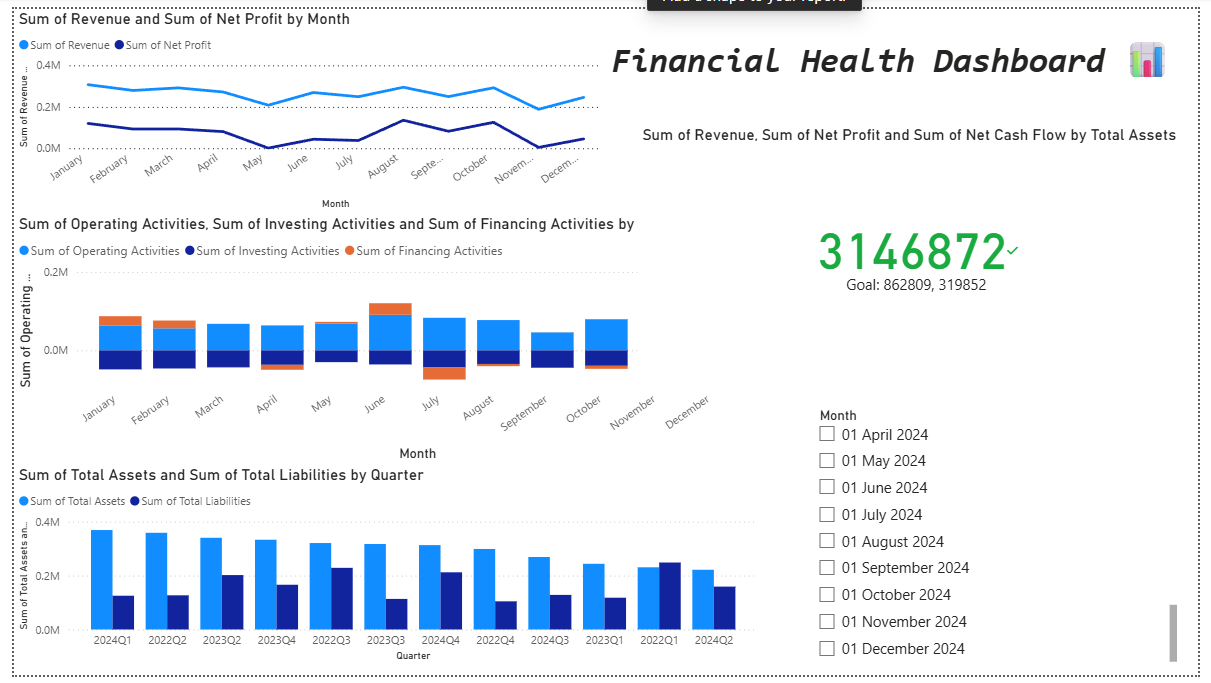

Layout of this report page (visuals, bound fields, positions):
{"tool":"powerbi","page":{"name":"Page 1","canvas":[1280,720],"ordinal":0},"visuals":[{"type":"lineChart","fields":{"Category":["income_statement.Month.Variation.Date Hierarchy.Month"],"Y":["Sum(income_statement.Revenue)","Sum(income_statement.Net Profit)"]},"box":[0,0,623.3,222.1],"z":0},{"type":"columnChart","fields":{"Category":["cash_flow.Month.Variation.Date Hierarchy.Month"],"Y":["Sum(cash_flow.Operating Activities)","Sum(cash_flow.Investing Activities)","Sum(cash_flow.Financing Activities)"]},"box":[0,221.6,640.5,271.6],"z":1000},{"type":"clusteredColumnChart","fields":{"Category":["balance_sheet.Quarter"],"Y":["Sum(balance_sheet.Total Assets)","Sum(balance_sheet.Total Liabilities)"]},"box":[0,493.2,640.5,217.6],"z":2000},{"type":"kpi","fields":{"Indicator":["Sum(income_statement.Revenue)"],"Goal":["Sum(income_statement.Net Profit)","Sum(cash_flow.Net Cash Flow)"],"TrendLine":["balance_sheet.Total Assets"]},"box":[674.3,0,605.4,273],"z":2001},{"type":"slicer","fields":{"Values":["cash_flow.Month"]},"box":[791.9,317.6,404.1,285.1],"z":2002}]}

Visuals, with their boxes in screenshot pixels (x1, y1, x2, y2), scaled from the page's 1280x720 canvas onto the 1211x683 screenshot:
lineChart - income_statement.Month.Variation.Date Hierarchy.Month x Sum(income_statement.Revenue): Rect(0, 0, 590, 211)
columnChart - cash_flow.Month.Variation.Date Hierarchy.Month x Sum(cash_flow.Operating Activities): Rect(0, 210, 606, 468)
clusteredColumnChart - balance_sheet.Quarter x Sum(balance_sheet.Total Assets): Rect(0, 468, 606, 674)
kpi - Sum(income_statement.Revenue) x Sum(income_statement.Net Profit): Rect(638, 0, 1210, 259)
slicer - cash_flow.Month: Rect(749, 301, 1132, 572)
